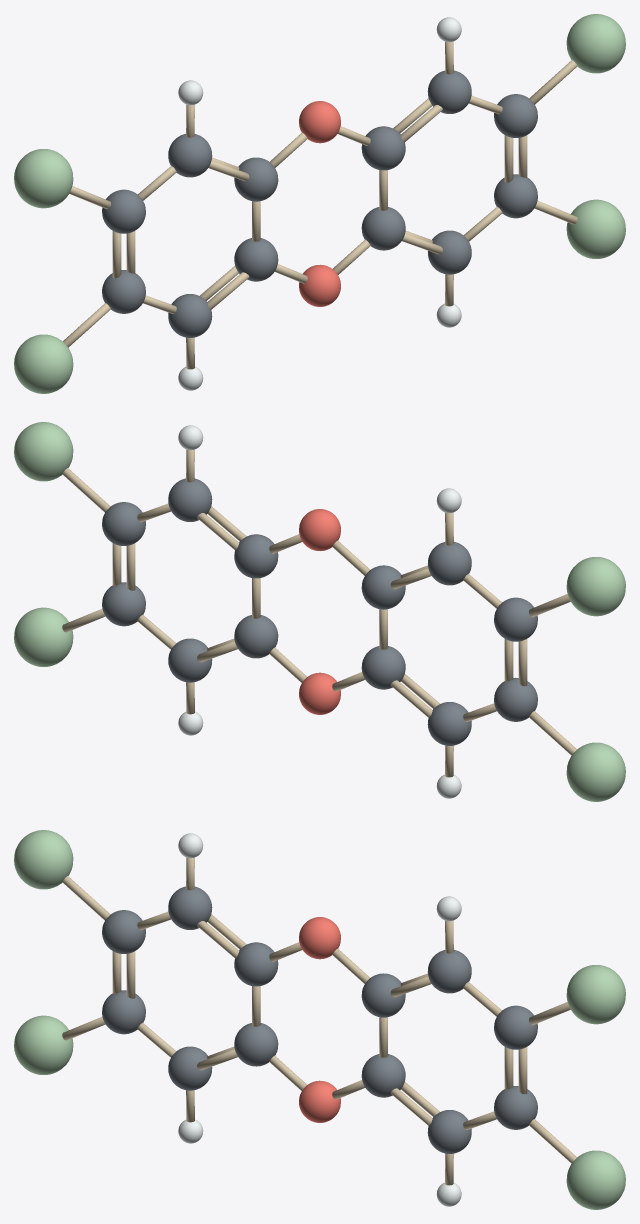
The model's file is tcdd-pubchem.glb.
The picture shows the model from 3 angles, top to bottom: view 1: azimuth 30°, elevation 25°; view 2: azimuth 150°, elevation 25°; view 3: azimuth 330°, elevation 25°; orthographic projection.
Parts seen in each view (by area): view 1: Atom 03 · Cl, Atom 04 · Cl, Atom 02 · Cl, Atom 01 · Cl, Atom 07 · C, Atom 14 · C, Atom 15 · C, Atom 09 · C, Atom 16 · C, Atom 08 · C, Atom 12 · C, Atom 13 · C (+8 smaller); view 2: Atom 03 · Cl, Atom 04 · Cl, Atom 02 · Cl, Atom 01 · Cl, Atom 07 · C, Atom 14 · C, Atom 15 · C, Atom 09 · C, Atom 16 · C, Atom 08 · C, Atom 12 · C, Atom 13 · C (+8 smaller); view 3: Atom 01 · Cl, Atom 02 · Cl, Atom 04 · Cl, Atom 03 · Cl, Atom 08 · C, Atom 13 · C, Atom 16 · C, Atom 10 · C, Atom 15 · C, Atom 07 · C, Atom 11 · C, Atom 14 · C (+8 smaller).
Boxes of the visible parts, x1,y1,x2,y2 form: Atom 03 · Cl: (14,334,73,393); Atom 04 · Cl: (14,149,73,208); Atom 02 · Cl: (566,14,625,73); Atom 01 · Cl: (566,199,625,258); Atom 07 · C: (361,207,405,250); Atom 14 · C: (168,134,212,177); Atom 15 · C: (494,94,537,137); Atom 09 · C: (361,126,405,170); Atom 16 · C: (102,189,145,233); Atom 08 · C: (234,238,278,281); Atom 12 · C: (168,294,212,337); Atom 13 · C: (427,70,471,113); Atom 03 · Cl: (566,742,625,801); Atom 04 · Cl: (566,557,625,616); Atom 02 · Cl: (14,422,73,481); Atom 01 · Cl: (14,607,73,666); Atom 07 · C: (234,615,278,658); Atom 14 · C: (428,542,471,585); Atom 15 · C: (102,502,145,545); Atom 09 · C: (234,534,278,578); Atom 16 · C: (494,597,537,641); Atom 08 · C: (361,646,405,689); Atom 12 · C: (427,702,471,745); Atom 13 · C: (168,478,212,521); Atom 01 · Cl: (566,1150,625,1209); Atom 02 · Cl: (566,965,625,1024); Atom 04 · Cl: (14,830,73,889); Atom 03 · Cl: (14,1015,73,1074); Atom 08 · C: (234,1023,278,1066); Atom 13 · C: (427,950,471,993); Atom 16 · C: (102,910,145,953); Atom 10 · C: (234,942,278,986); Atom 15 · C: (494,1005,537,1049); Atom 07 · C: (361,1054,405,1097); Atom 11 · C: (427,1110,471,1153); Atom 14 · C: (168,886,212,929).
Bounding box in the file's own units: 7.27 × 3.54 × 0.6203.
